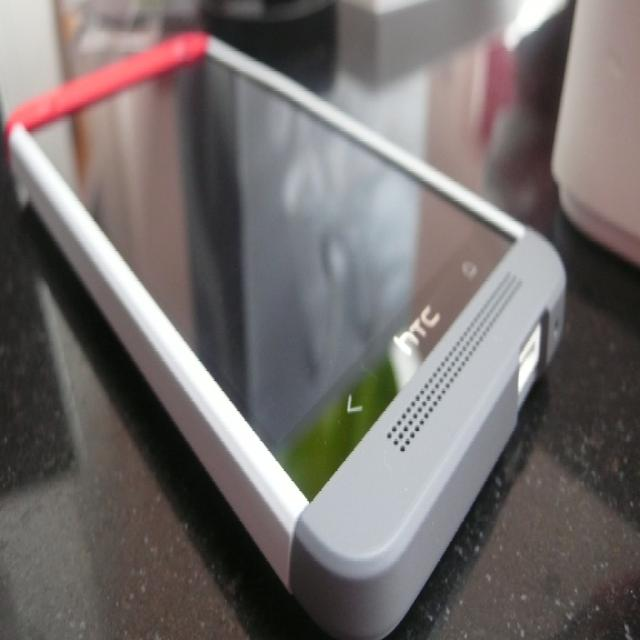Mobile-phone: (6, 28, 567, 640)
